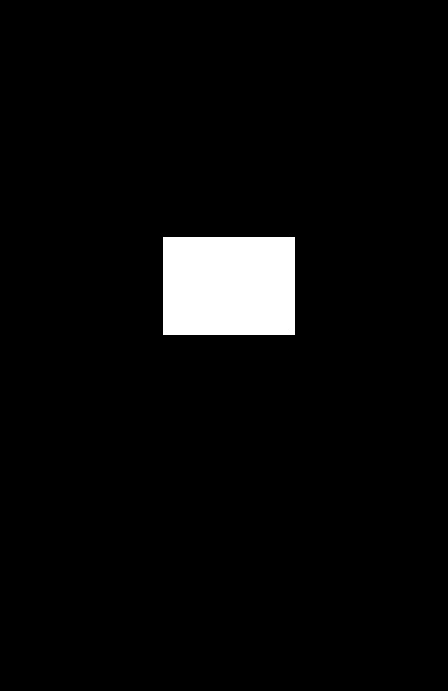table: (163, 237, 294, 334)
